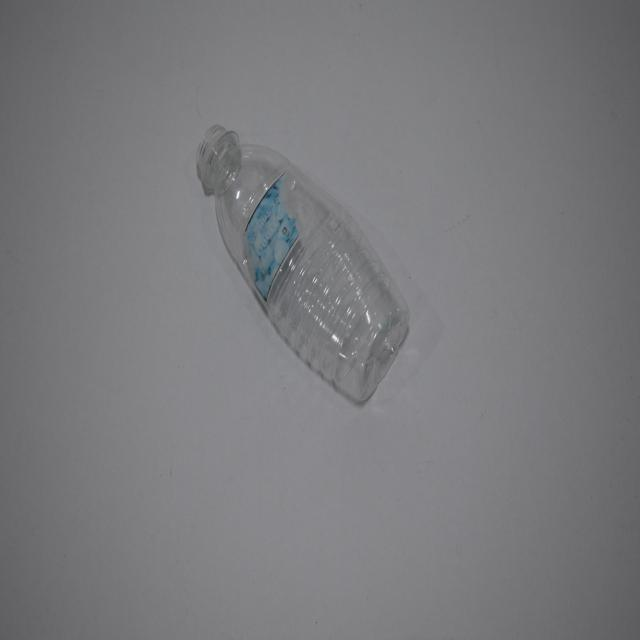plastic: (192, 116, 413, 410)
